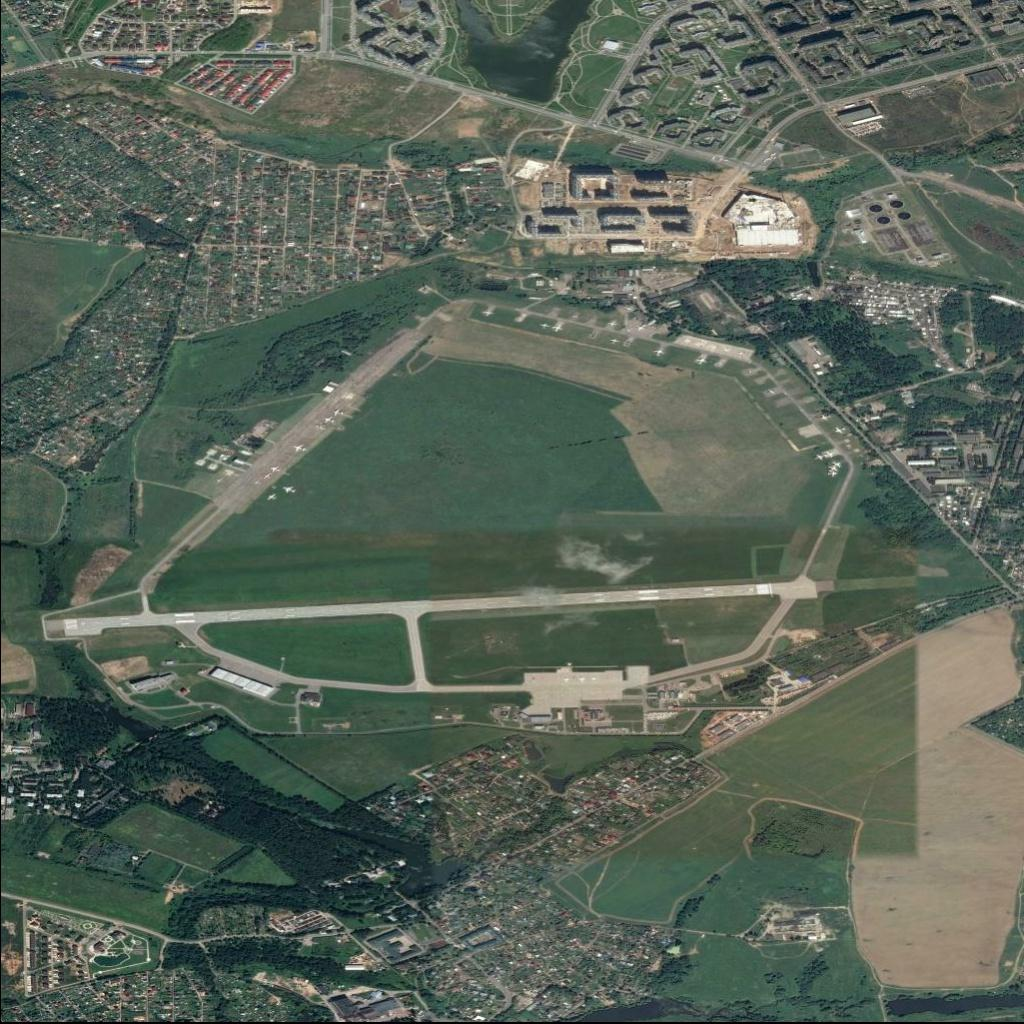plane: (289, 440, 308, 455), (281, 482, 299, 495), (694, 353, 709, 367), (549, 322, 566, 334), (263, 491, 279, 503), (816, 412, 833, 423), (831, 425, 848, 436), (650, 346, 666, 357), (266, 464, 283, 474), (539, 320, 551, 331), (608, 336, 621, 346)
